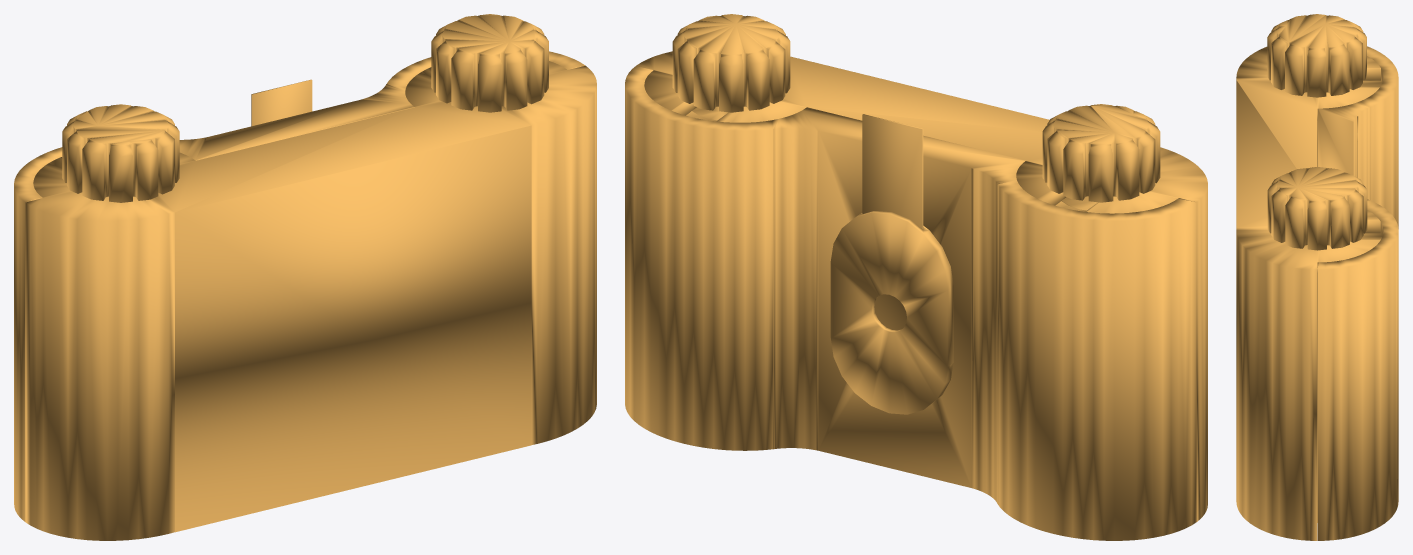
File: pinhole_all.glb
The picture shows the model from 3 angles, left to right: view 1: azimuth 30°, elevation 25°; view 2: azimuth 150°, elevation 25°; view 3: azimuth 270°, elevation 25°; orthographic projection. The views are drawn at different scales.
Parts seen in each view (by area): view 1: back, front, knob_right, knob_left, shutter; view 2: front, back, knob_left, knob_right, shutter; view 3: back, front, knob_right, knob_left.
Boxes of the visible parts, bbox=[...] form: back: bbox=[25, 61, 596, 540]; front: bbox=[14, 51, 584, 521]; knob_right: bbox=[431, 14, 548, 112]; knob_left: bbox=[62, 104, 179, 202]; shutter: bbox=[251, 79, 312, 126]; front: bbox=[625, 65, 1196, 540]; back: bbox=[636, 51, 1207, 521]; knob_left: bbox=[1042, 104, 1160, 202]; knob_right: bbox=[672, 14, 790, 112]; shutter: bbox=[862, 114, 923, 330]; back: bbox=[1236, 46, 1380, 540]; front: bbox=[1317, 46, 1398, 540]; knob_right: bbox=[1267, 167, 1367, 250]; knob_left: bbox=[1267, 14, 1366, 97].
Size of the model in its own units: 0.11 by 0.0702 by 0.0325.
